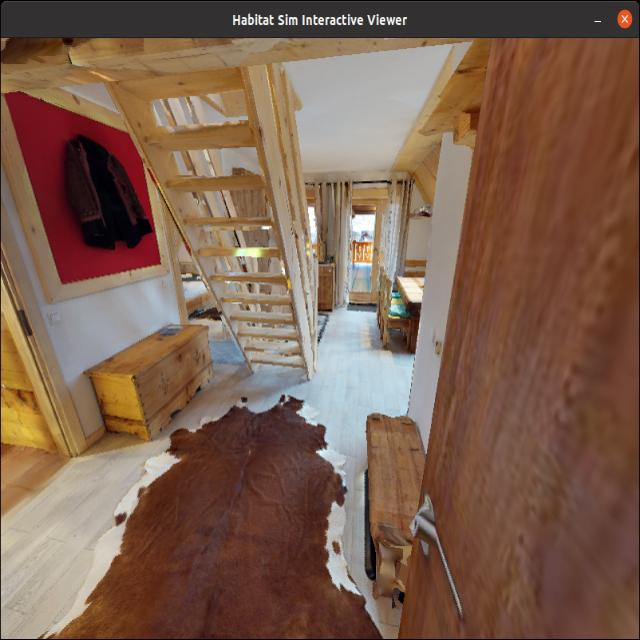stairs: (140, 38, 328, 369)
